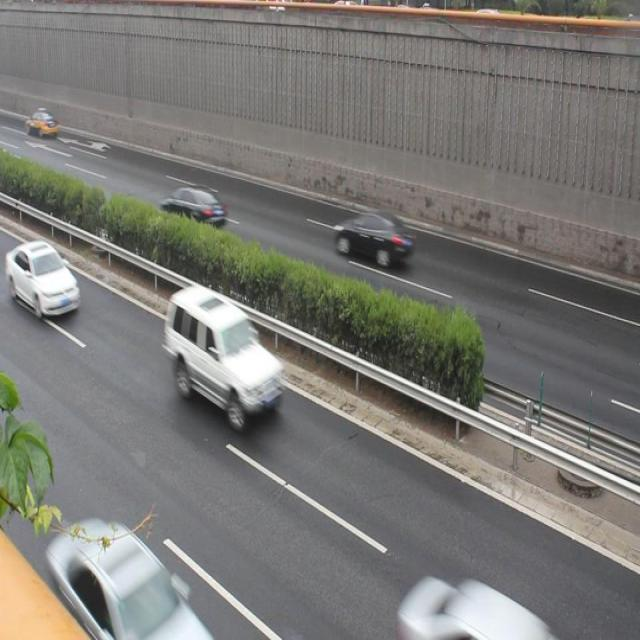car: (43, 518, 202, 640), (166, 286, 280, 423), (394, 571, 552, 640), (1, 238, 78, 318), (334, 212, 411, 269), (160, 186, 224, 234)
